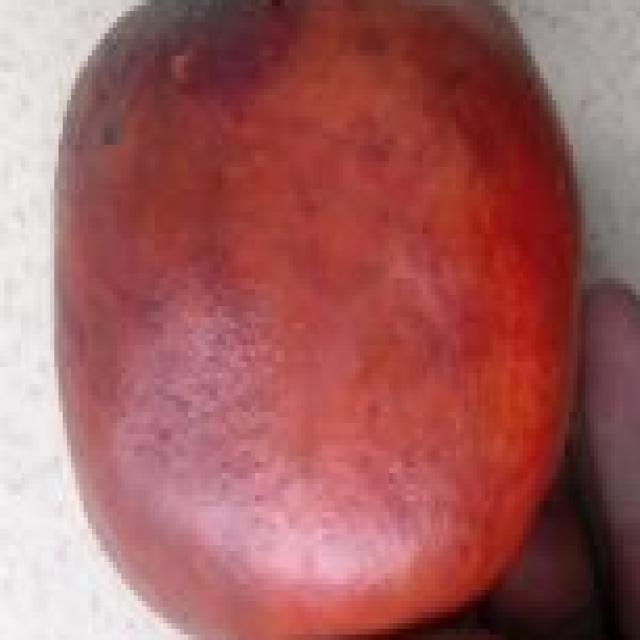Bad_Pomegranate-0-1-day: (54, 0, 581, 640)
